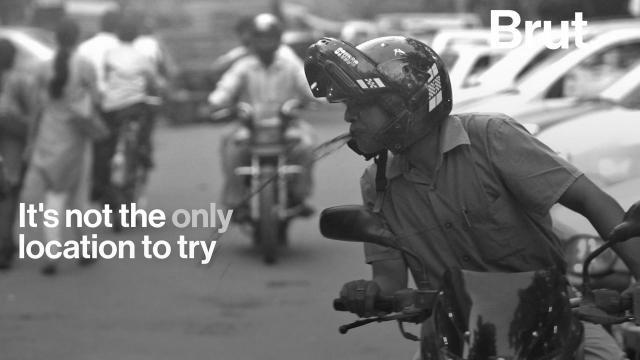spit: (239, 86, 413, 223)
